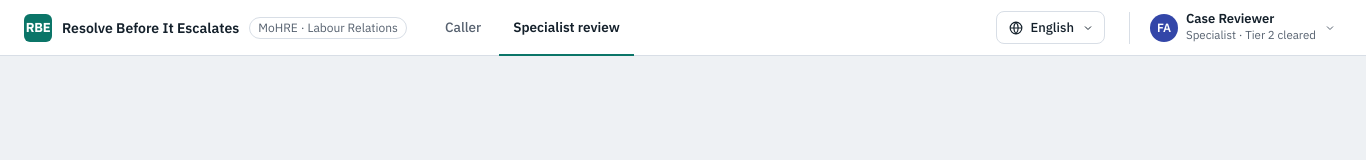
TopBar › closes the reviewer menu when clicking elsewhere
Click the button with aria-label "reviewer menu": (1244, 27) [1146,8,1342,47]
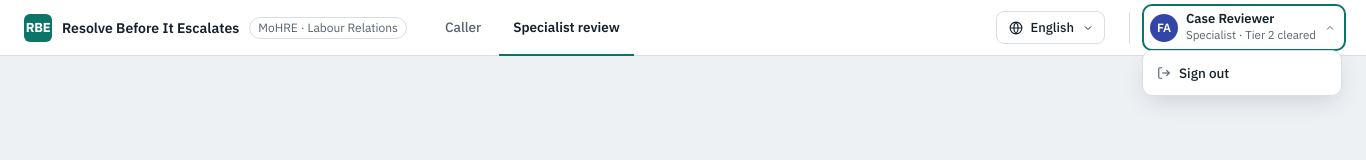
Click the element that starts with "RBE": (683, 28) [0,0,1365,56]
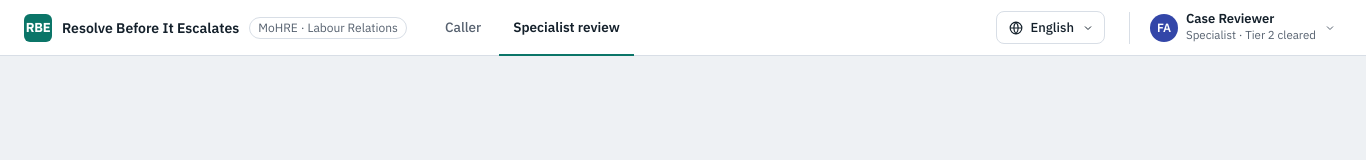
Check: the menu "reviewer menu" is gone
